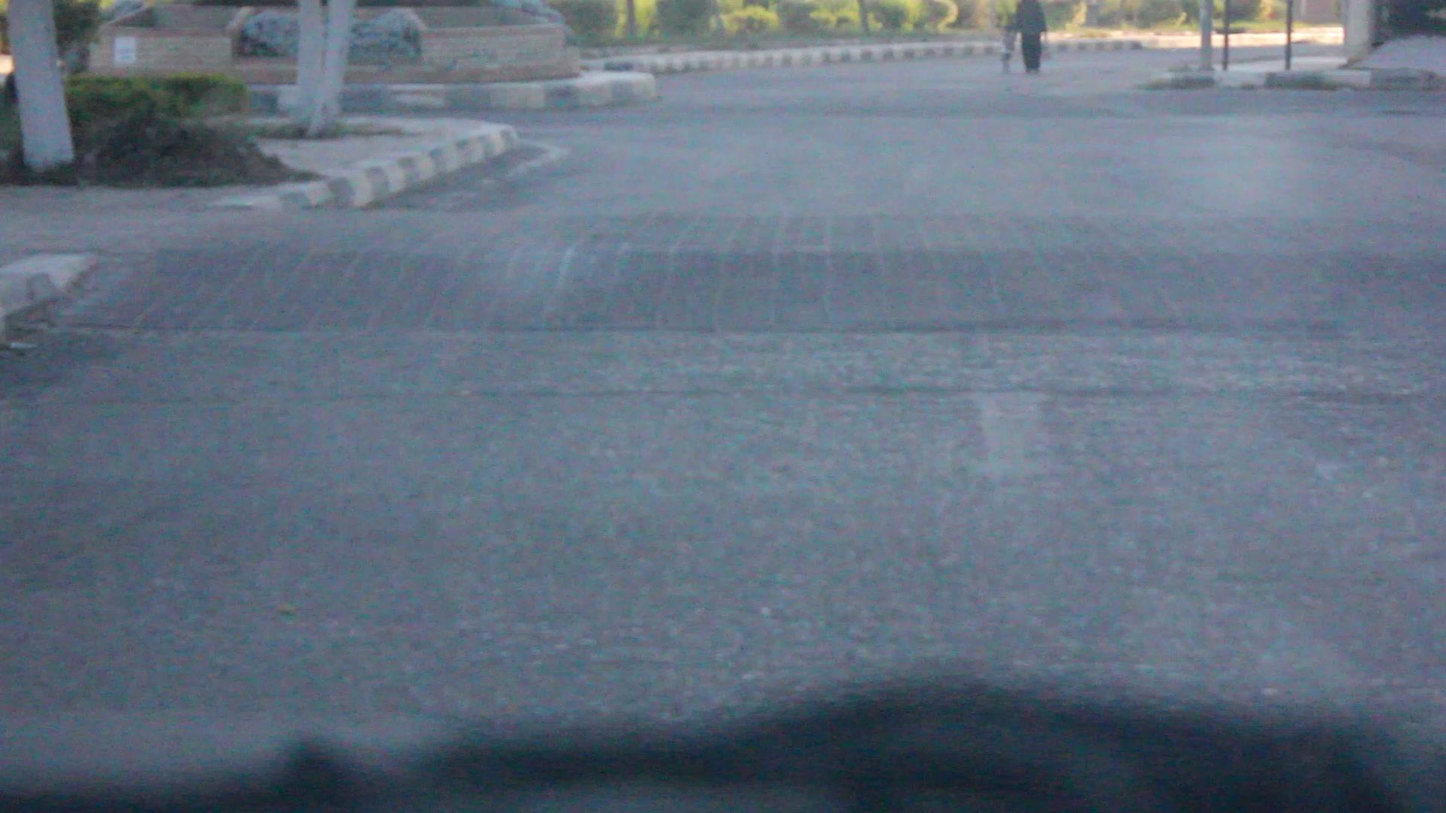Bump: (132, 211, 1446, 371)
